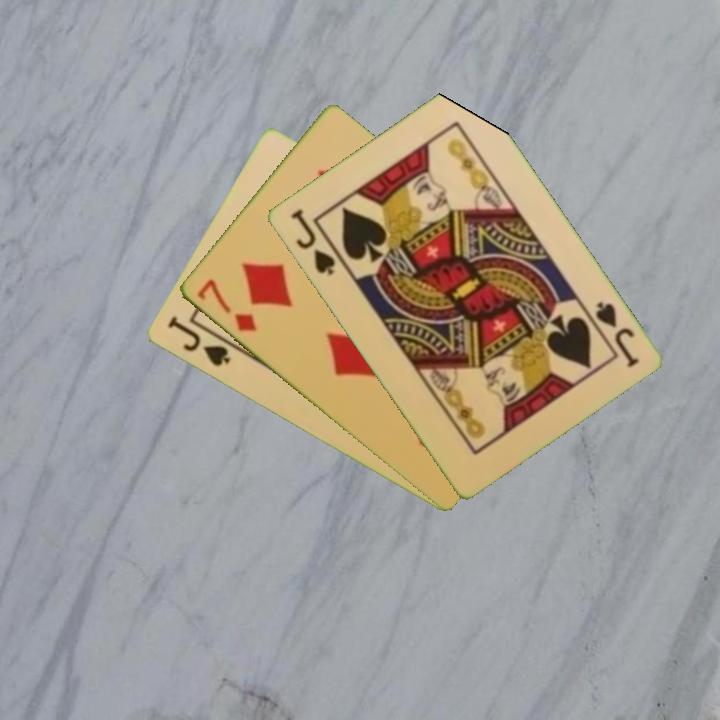7d: (193, 275, 259, 335)
Js: (163, 312, 233, 370), (286, 205, 338, 279), (591, 297, 642, 371)
